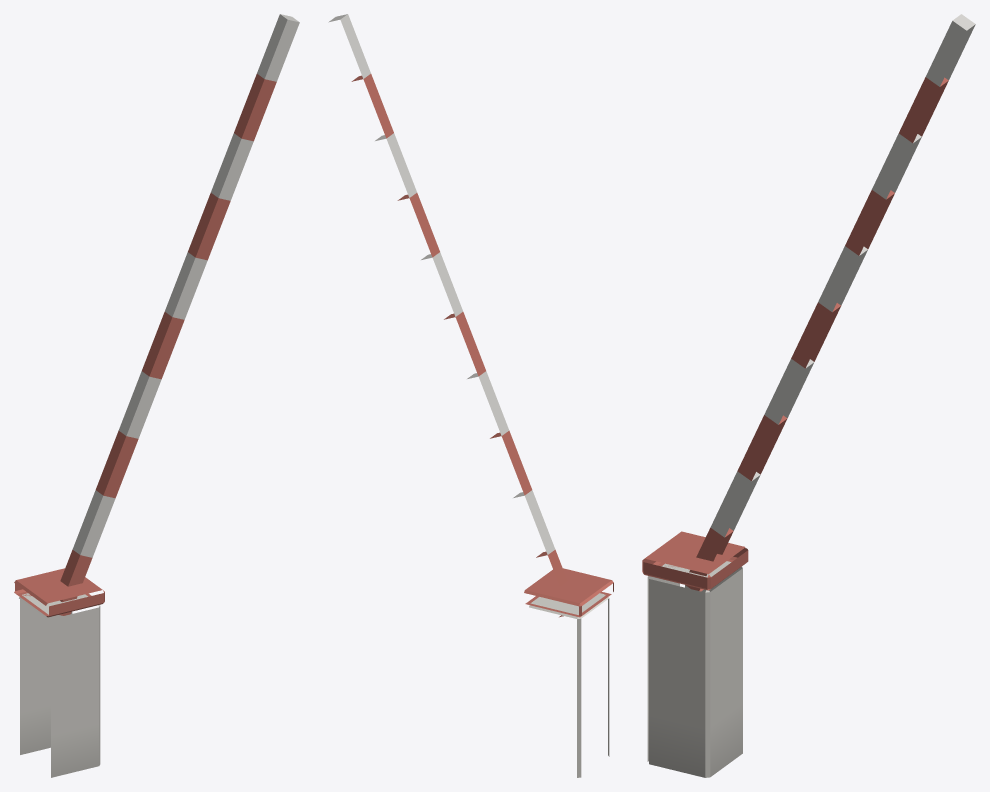
Rendered from gate_boom.glb.
The picture shows the model from 3 angles, left to right: view 1: azimuth 30°, elevation 25°; view 2: azimuth 150°, elevation 25°; view 3: azimuth 330°, elevation 25°; orthographic projection. The views are drawn at different scales.
Parts seen in each view (by area): view 1: gate_boom; view 2: gate_boom; view 3: gate_boom.
Boxes of the visible parts, box(x1,y1,x2,y2) form: gate_boom: box(14, 14, 299, 777); gate_boom: box(328, 14, 613, 777); gate_boom: box(642, 14, 975, 777).
Size of the model in its own units: 1.98 by 4.9 by 0.44.
